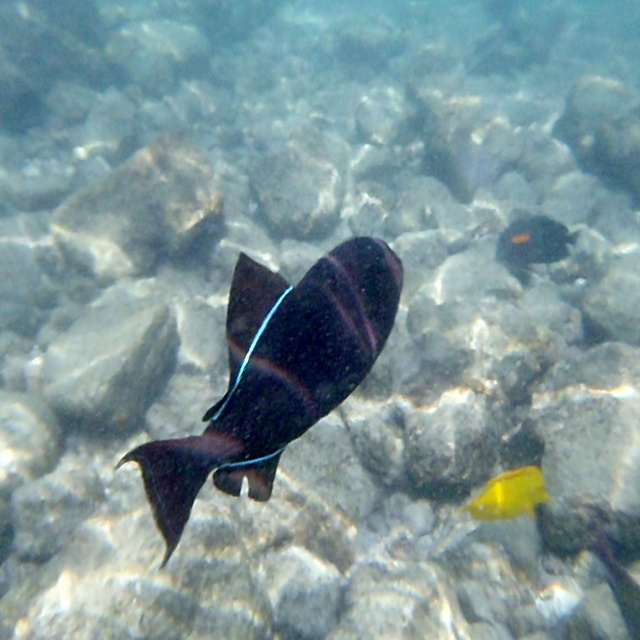Fish: (101, 244, 397, 587), (457, 464, 550, 519), (496, 209, 578, 262)
